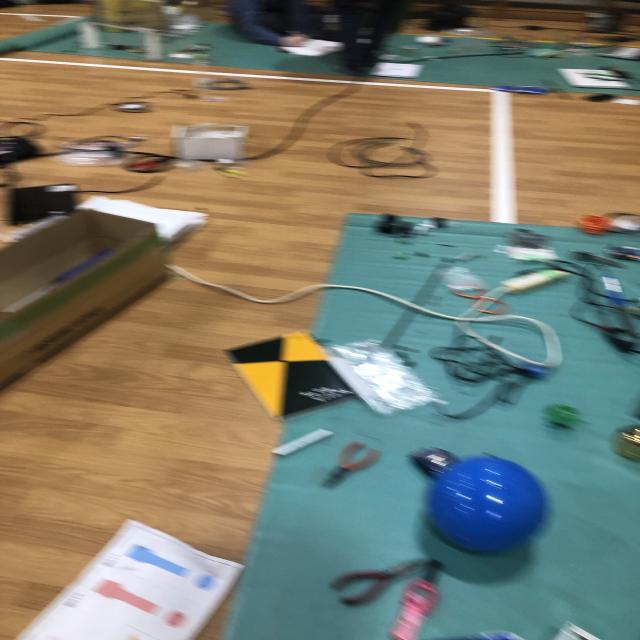blue_ball: (434, 457, 543, 556)
